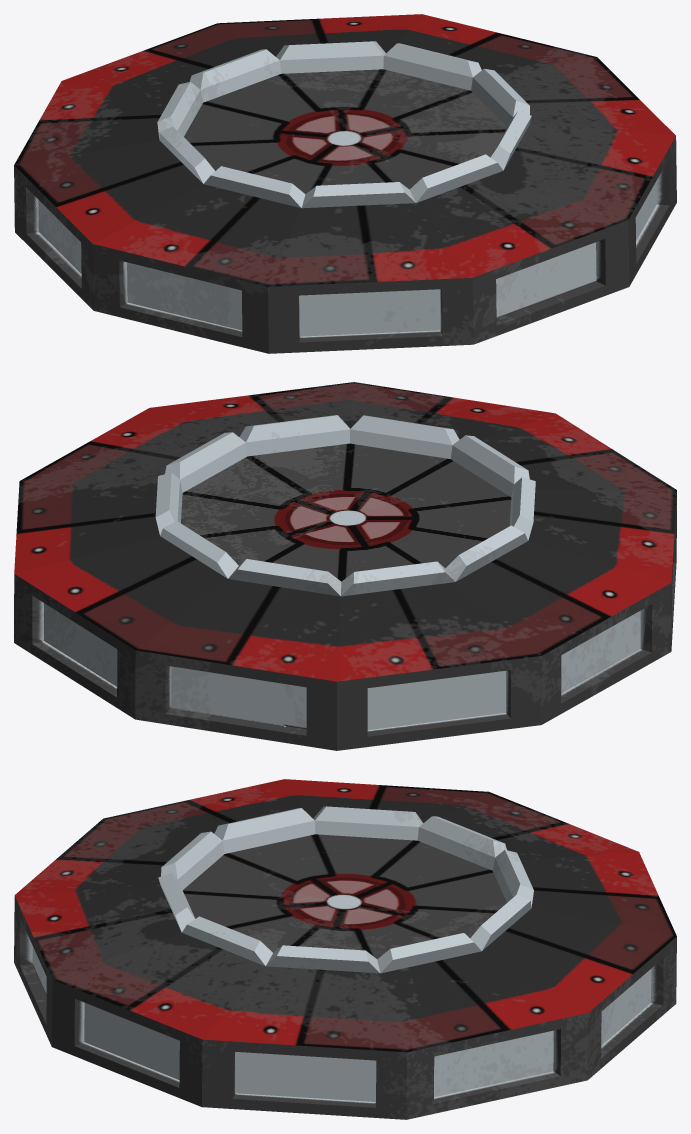
File: Mine.fbx
3 renders of one model, top to bottom at view 1: azimuth 30°, elevation 25°; view 2: azimuth 150°, elevation 25°; view 3: azimuth 270°, elevation 25°, orthographic. The views are drawn at different scales.
Visible parts, largest first — view 1: mineMag; view 2: mineMag; view 3: mineMag.
Part boxes in pixels (<box>): mineMag: <box>14,14,676,353</box>; mineMag: <box>14,382,676,750</box>; mineMag: <box>14,779,676,1119</box>.
Bounding box in the file's own units: 17.71 × 3.27 × 17.87.
